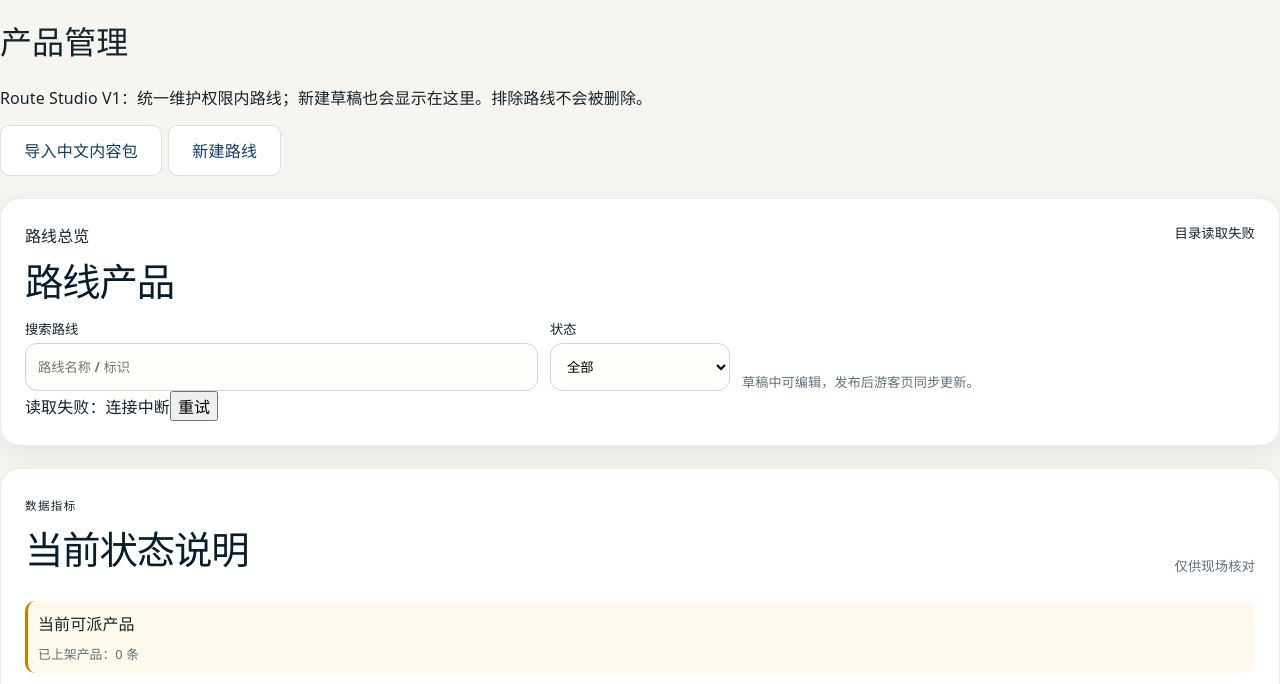
Scenario: 产品复制组件行为 › 读取抛错后显示错误而非空数据，重试可以恢复
This screenshot has width=1280, height=684.
Expected: the message shows "连接中断", top-left (106, 396), bottom-right (170, 418)
Click the button "重试" at [194, 406], box top-left (170, 391), bottom-right (218, 421)
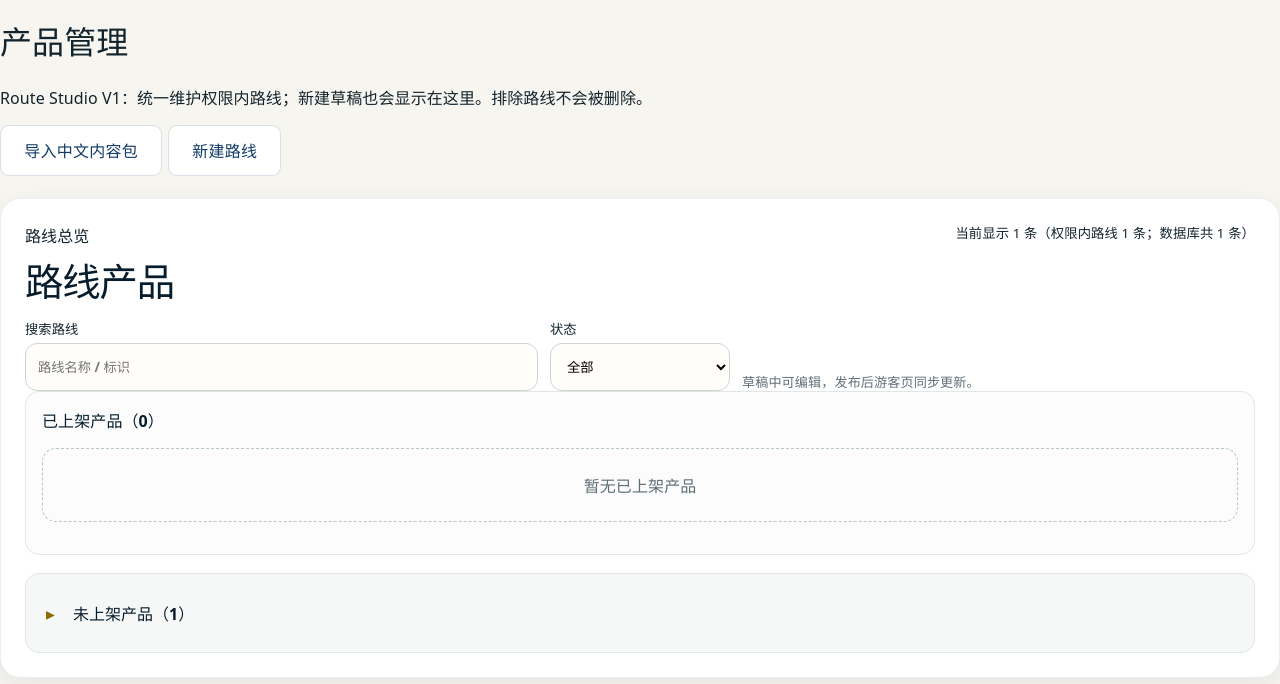
Click the button "▸ 未上架产品（1）" at [121, 614], box top-left (42, 590), bottom-right (1238, 636)
(page scrolled)
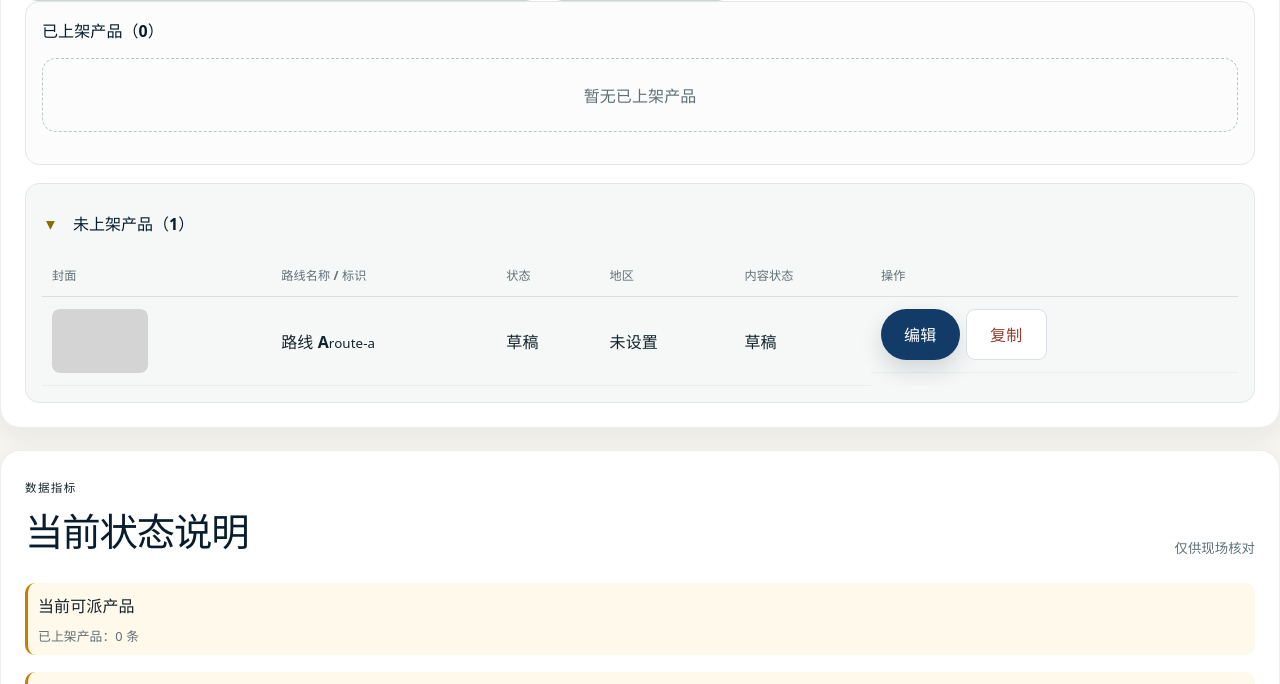
Expected: the message "读取失败：连接中断 重试" is not shown
Result: the link "编辑" is shown at top-left (881, 309), bottom-right (960, 360)
